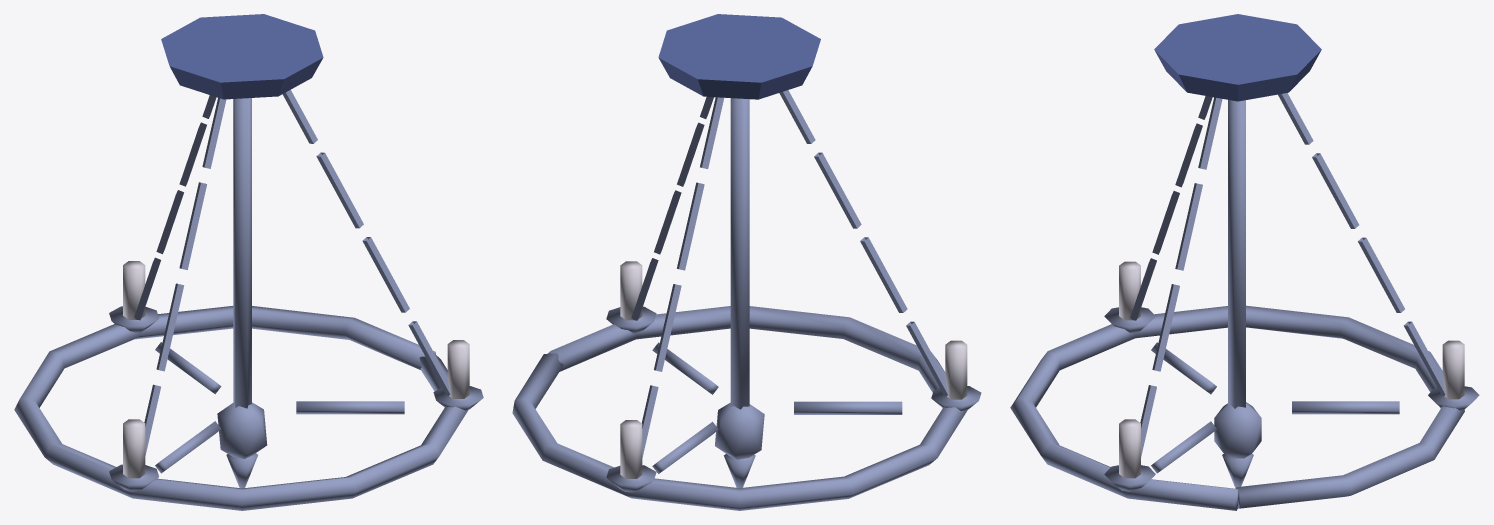
File: blue_dungeon_chandelier_v0.glb
3 renders of one model, left to right at view 1: azimuth 30°, elevation 25°; view 2: azimuth 150°, elevation 25°; view 3: azimuth 270°, elevation 25°, orthographic.
Parts seen in each view (by area): view 1: blue_dungeon_chandelier_v0; view 2: blue_dungeon_chandelier_v0; view 3: blue_dungeon_chandelier_v0.
Part boxes in pixels (x1,y1,x2,y2): blue_dungeon_chandelier_v0: [14, 14, 483, 510]; blue_dungeon_chandelier_v0: [512, 14, 981, 510]; blue_dungeon_chandelier_v0: [1010, 14, 1479, 510].
Bounding box in the file's own units: 1.14 × 1.23 × 1.17.
